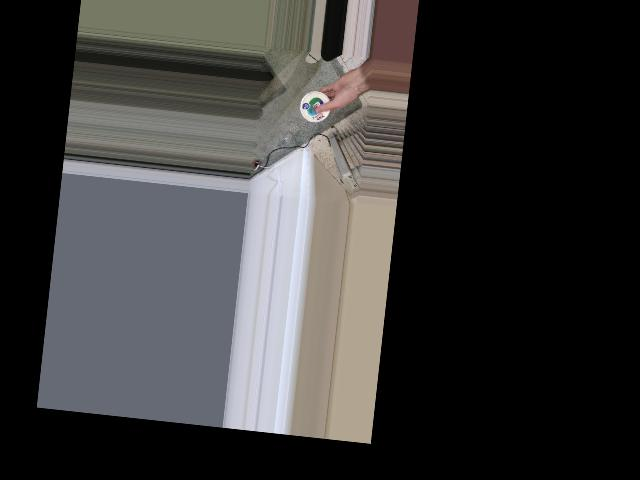cotage: (300, 90, 332, 122)
